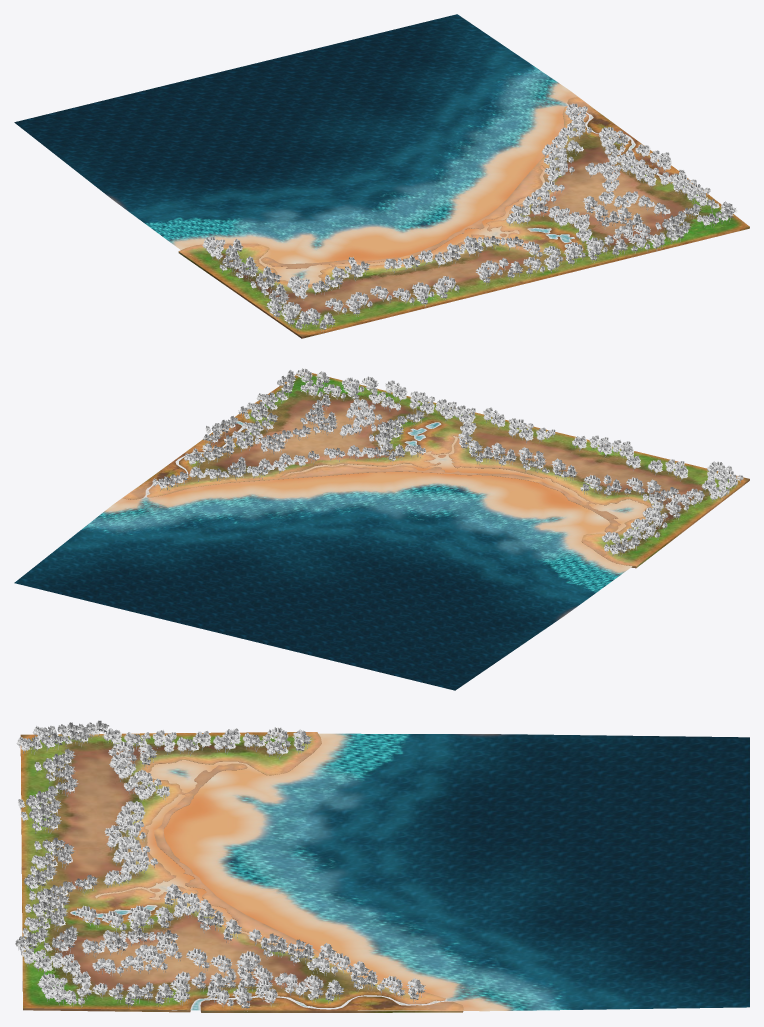
Rendered from Peta_Seven_Provience.fbx.
3 renders of one model, top to bottom at view 1: azimuth 30°, elevation 25°; view 2: azimuth 150°, elevation 25°; view 3: azimuth 270°, elevation 25°, orthographic. The views are drawn at different scales.
Parts seen in each view (by area): view 1: laut, Plane_low, tree; view 2: laut, Plane_low, tree; view 3: laut, Plane_low, tree.
Boxes of the visible parts, left/top/right/bottom form: laut: left=14, top=14, right=679, bottom=284; Plane_low: left=178, top=97, right=749, bottom=338; tree: left=202, top=103, right=737, bottom=332; laut: left=14, top=420, right=647, bottom=690; Plane_low: left=123, top=373, right=749, bottom=568; tree: left=152, top=368, right=743, bottom=556; laut: left=70, top=733, right=749, bottom=1011; Plane_low: left=20, top=732, right=463, bottom=1012; tree: left=15, top=720, right=425, bottom=1011.
Bounding box in the file's own units: 81557 × 2657 × 89968.
Materials: 3 (2 with a texture image).
